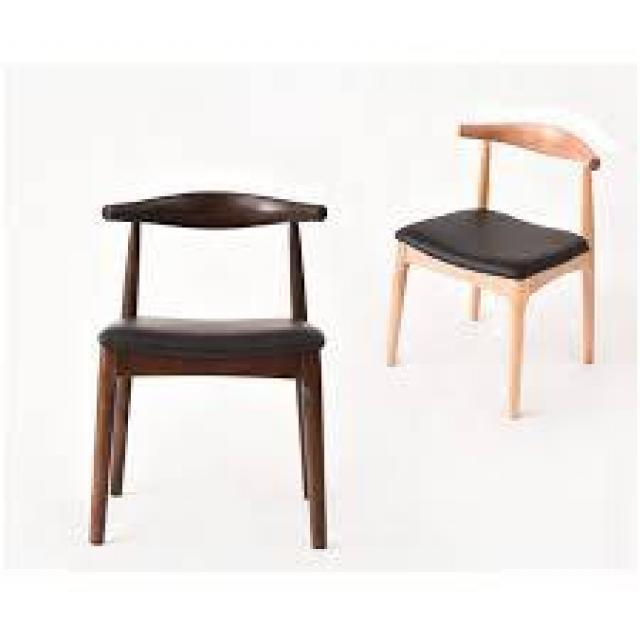chair: (66, 88, 602, 583)
